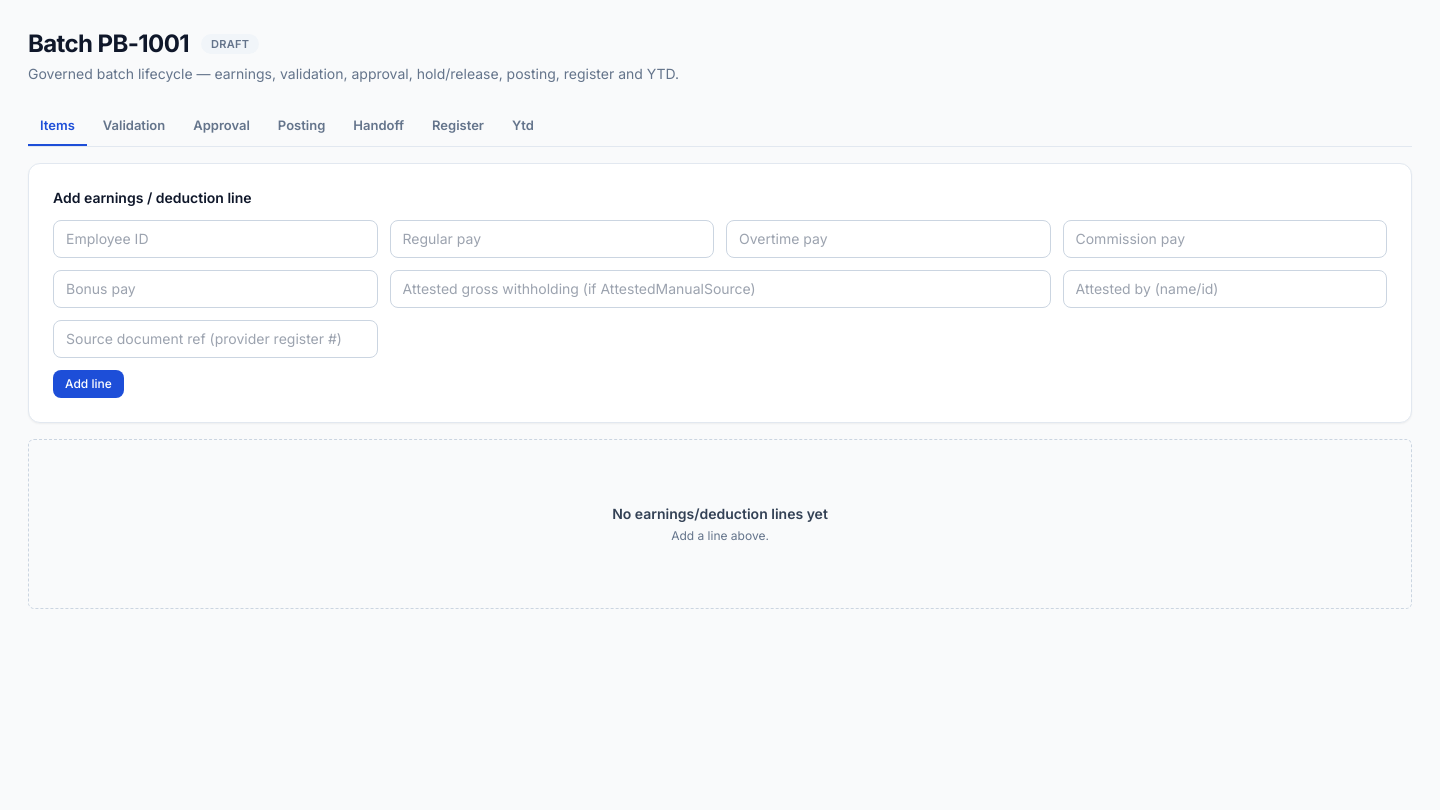
Scenario: PayrollBatchWorkbench › surfaces self-approval denial (SoD) truthfully rather than retrying
The width and height of the screenshot is (1440, 810).
Click the button with test id "payroll-batch-tab-approval" at [222, 127], box [181,108,262,146]
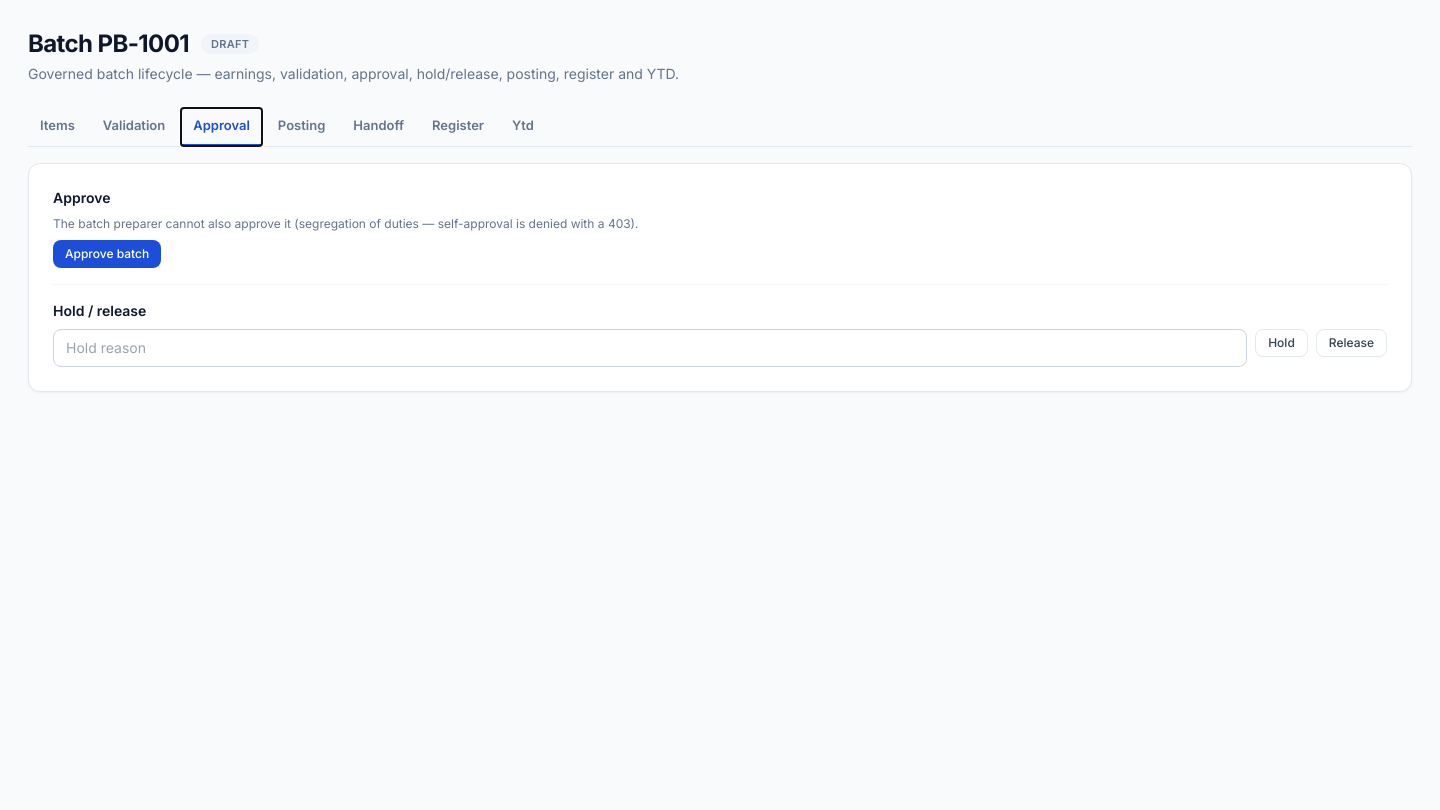
Click the button with test id "payroll-approve-btn" at [107, 254], box [53,240,161,268]
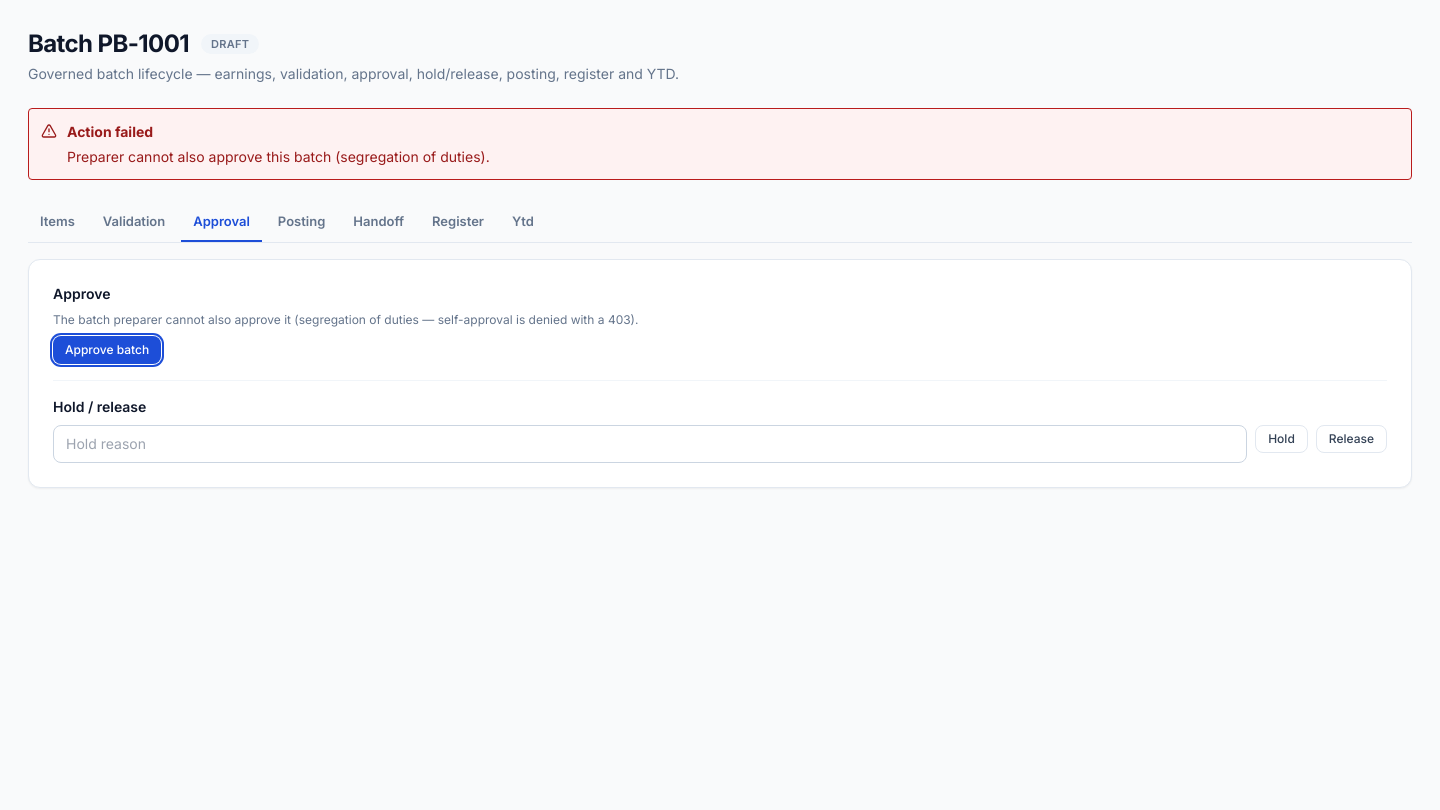
Result: the element with test id "payroll-batch-action-error" shows "segregation of duties" at [67,148,490,165]
